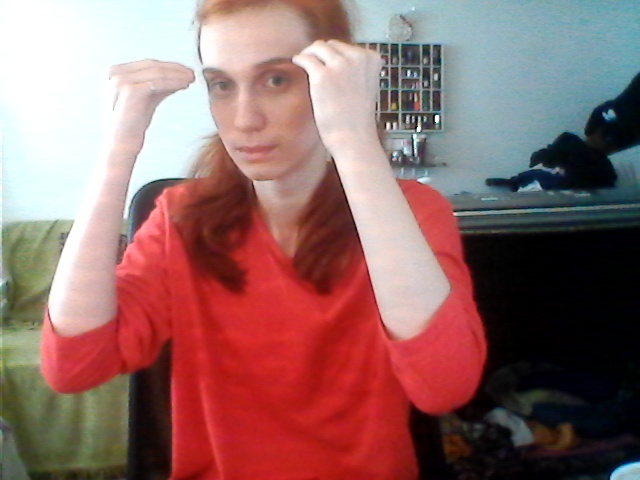ucit: (92, 35, 394, 99)
